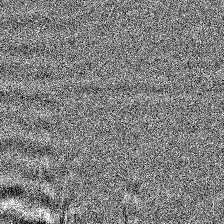cavities: (90, 45, 221, 183)
